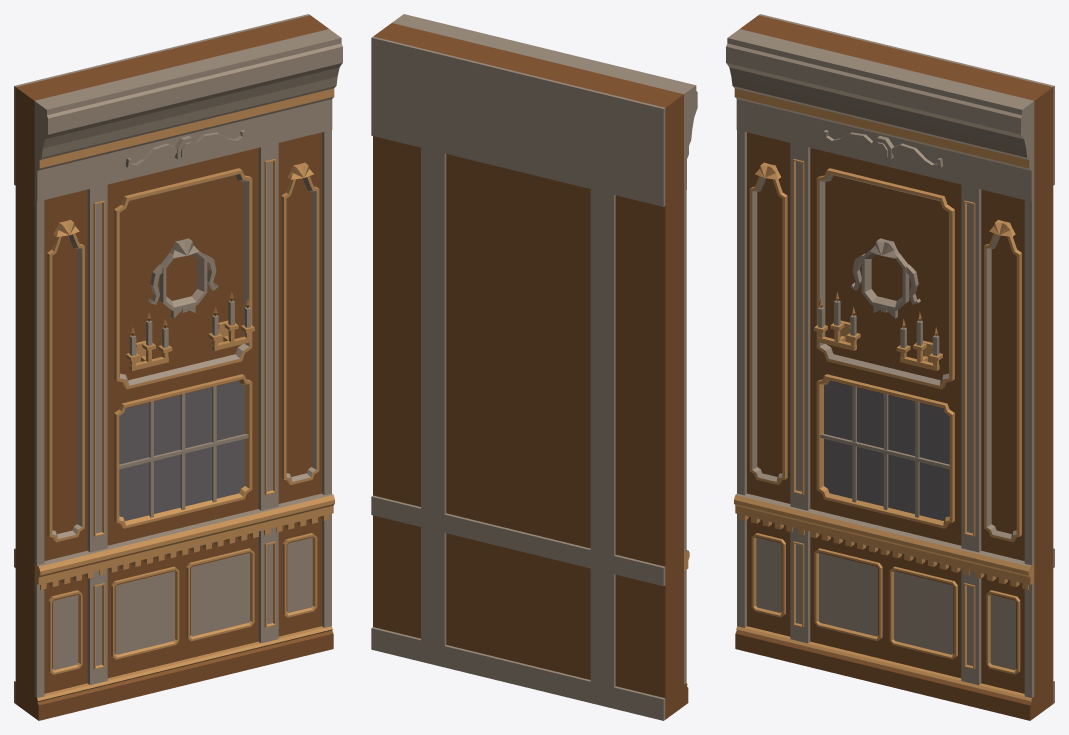
The model's file is baroque-panelled-wall-8658ed.glb.
The picture shows the model from 3 angles, left to right: view 1: azimuth 30°, elevation 25°; view 2: azimuth 150°, elevation 25°; view 3: azimuth 330°, elevation 25°; orthographic projection.
Visible parts, largest first — view 1: wall, sconces-mesh; view 2: wall; view 3: wall, sconces-mesh.
Boxes of the visible parts, x1,y1,x2,y2 form: wall: [14, 14, 342, 720]; sconces-mesh: [126, 292, 254, 370]; wall: [371, 14, 697, 720]; wall: [726, 14, 1054, 720]; sconces-mesh: [814, 292, 942, 370].
Bounding box in the file's own units: 2 × 4 × 0.4.
